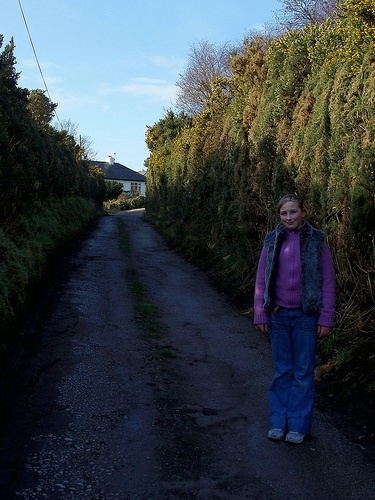head: (277, 196, 306, 229)
person: (251, 194, 334, 442)
